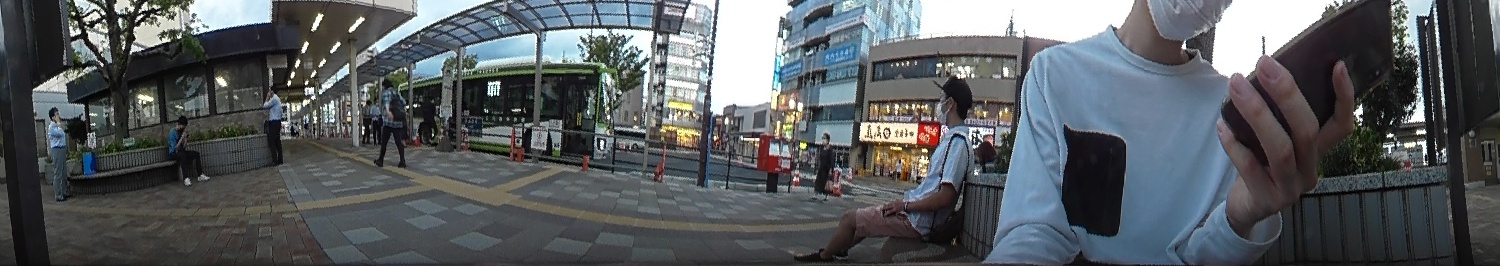difficult_person: (358, 97, 374, 146), (371, 96, 382, 137), (894, 158, 905, 178)
person: (801, 75, 974, 263), (370, 73, 413, 173), (42, 101, 77, 200), (171, 117, 213, 182), (257, 82, 288, 163), (805, 127, 837, 202)
